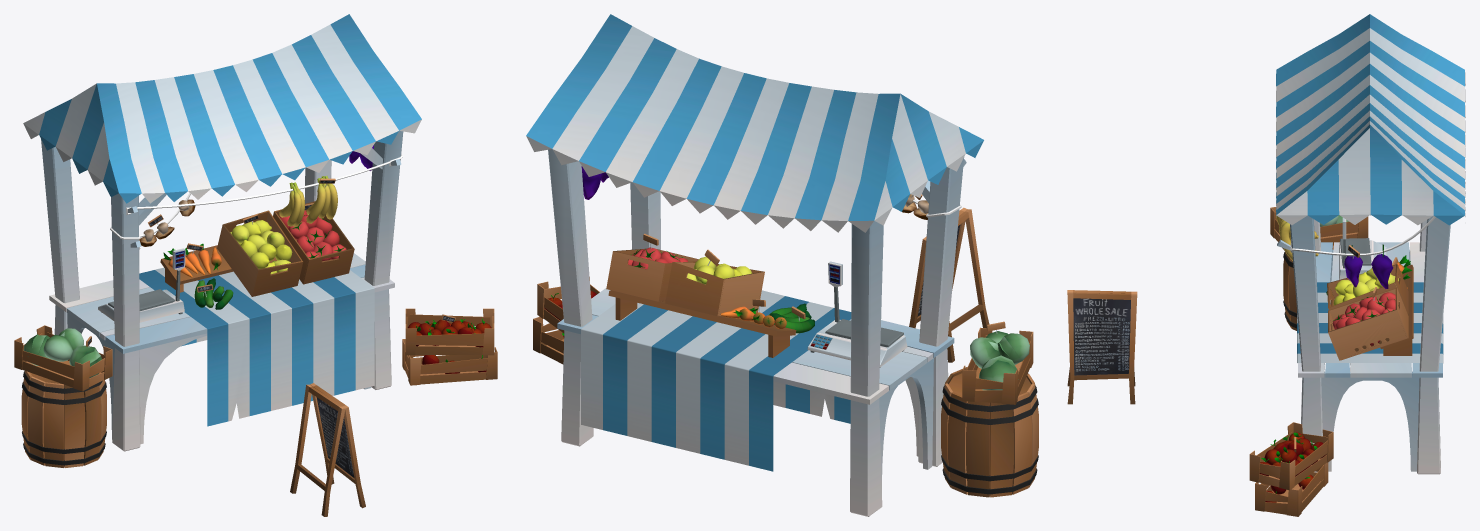
Rendered from stall-a.glb.
3 renders of one model, left to right at view 1: azimuth 30°, elevation 25°; view 2: azimuth 150°, elevation 25°; view 3: azimuth 270°, elevation 25°, orthographic. The views are drawn at different scales.
Visible parts, largest first — view 1: stall_a; view 2: stall_a; view 3: stall_a.
Boxes of the visible parts, left/top/right/bottom form: stall_a: left=14, top=14, right=497, bottom=516; stall_a: left=526, top=14, right=1038, bottom=516; stall_a: left=1067, top=14, right=1465, bottom=516.
Bounding box in the file's own units: 3.44 × 2.55 × 2.68.
Materials: 21 (18 with a texture image).
